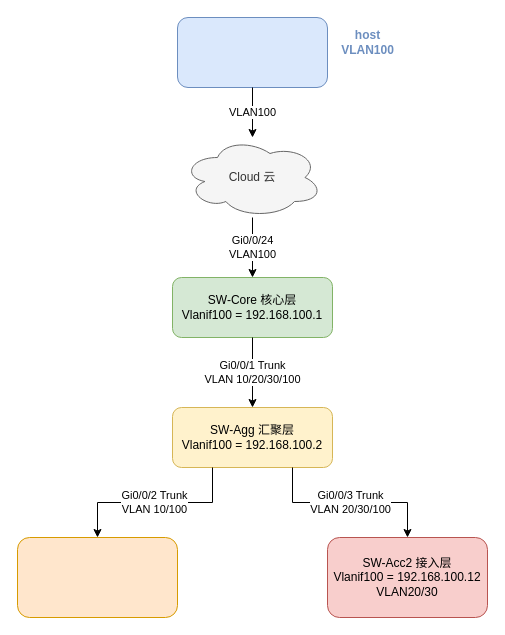
Some shapes in this 505 by 635 pixel diagram are drawn without their labels. Here are the shapes that lost their labels. From the top down, the centre of each, then its label:
the point at 252,52: 宿主机 环回适配器 192.168.100.250
the point at 97,577: SW-Acc1 接入层 Vlanif100 = 192.168.100.11 VLAN10/20
